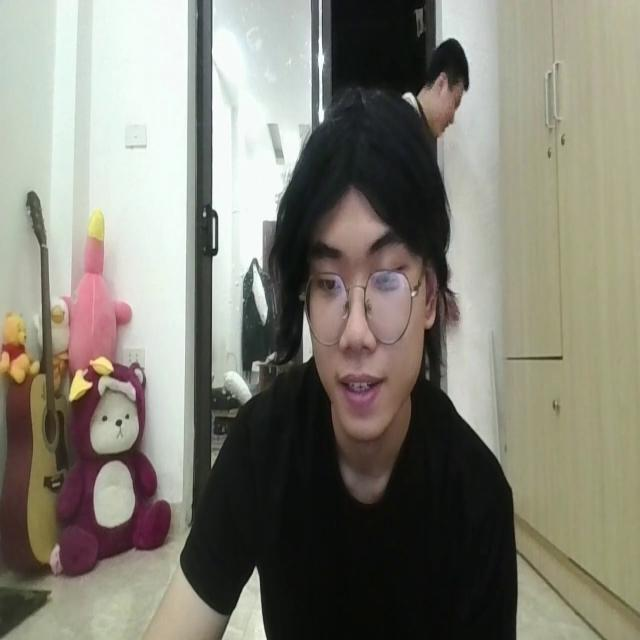extra_person: (421, 34, 468, 130)
student: (149, 77, 516, 640)
